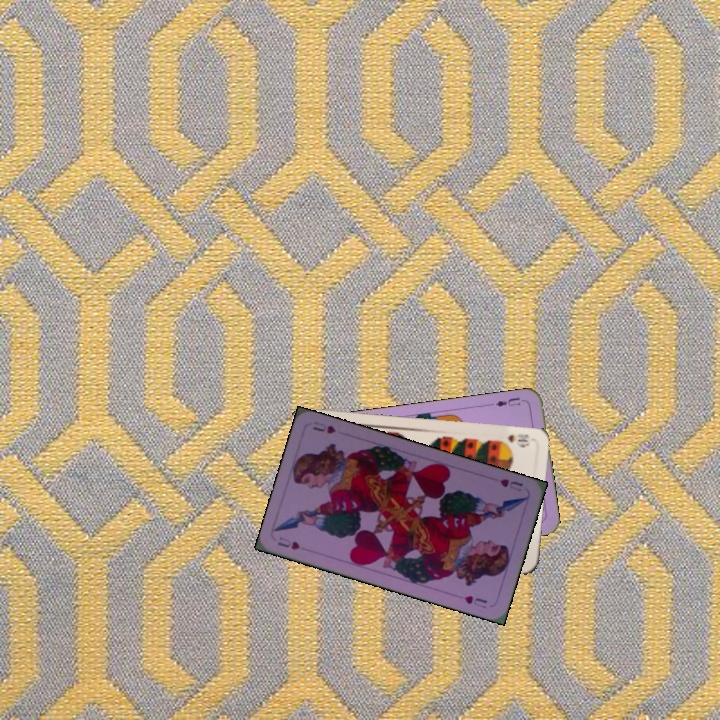EU: (487, 394, 527, 409)
HU: (495, 474, 526, 494), (274, 533, 302, 552)
S10: (493, 429, 532, 449)
